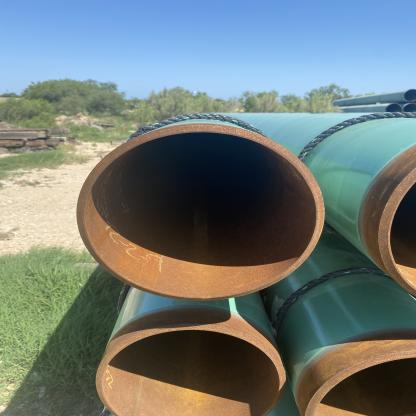clean: (60, 186, 101, 230)
